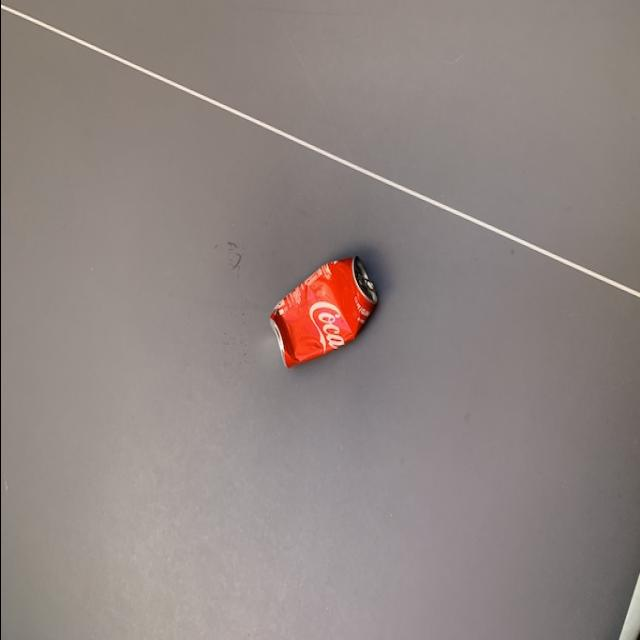Aluminum Can: (254, 255, 385, 377)
